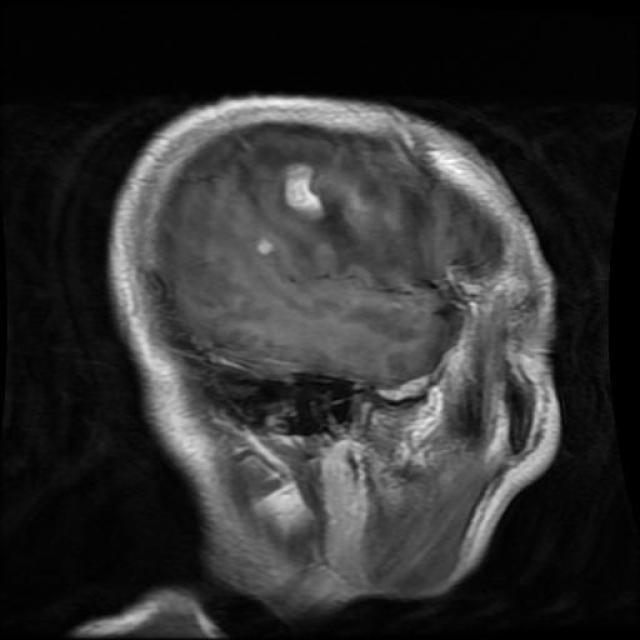glioma: (266, 156, 352, 240)
